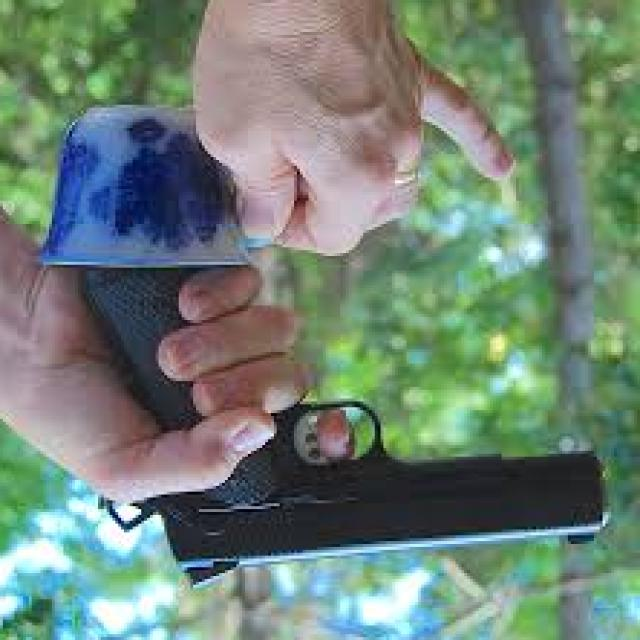gun: (60, 252, 612, 598)
